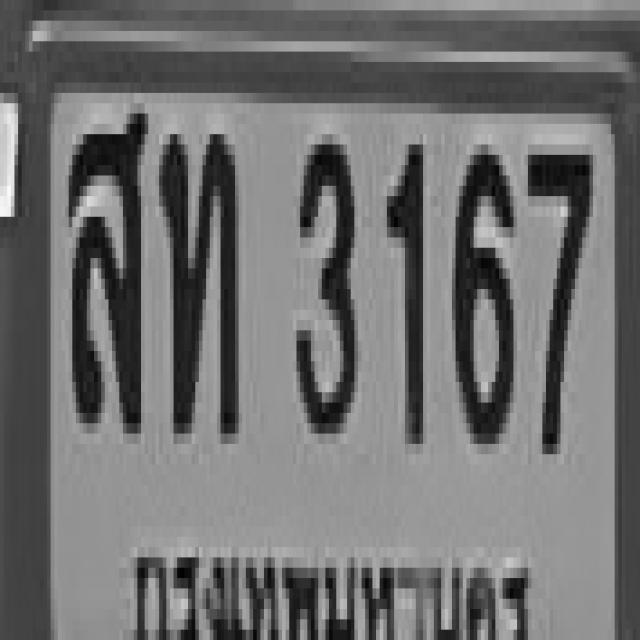1: (384, 134, 419, 434)
3: (293, 124, 354, 423)
32ThorThaHan: (159, 124, 235, 433)
49SorSuea: (65, 103, 145, 423)
6: (452, 134, 510, 434)
7: (524, 144, 590, 444)
